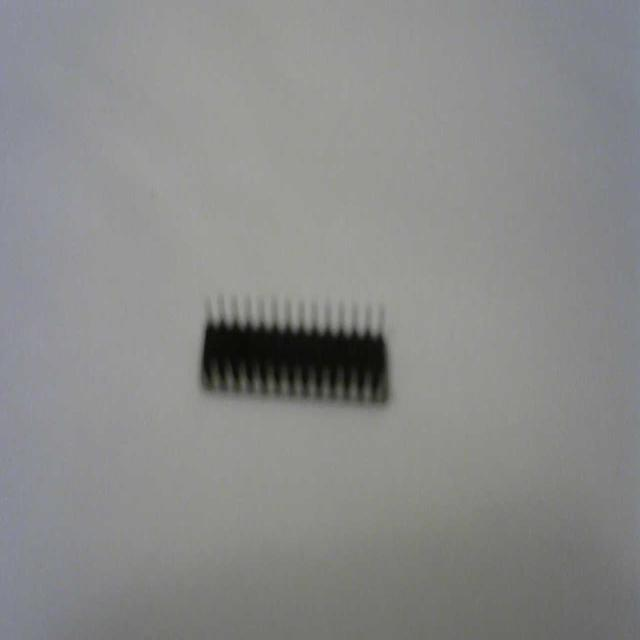atmega: (197, 287, 393, 410)
